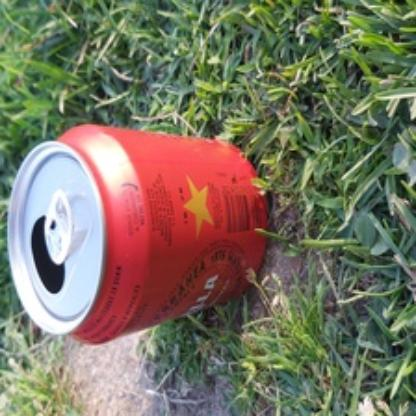Can: (6, 124, 270, 346)
